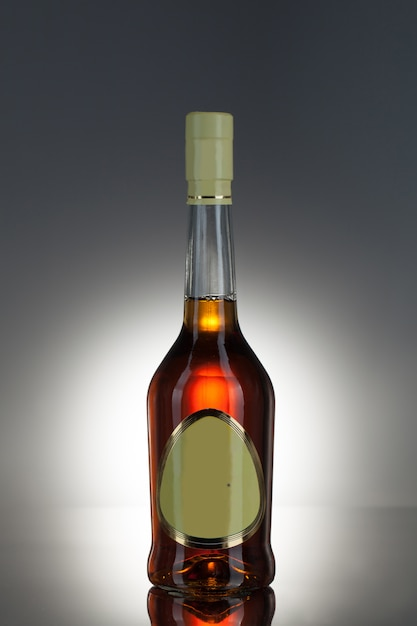alcohol: (146, 112, 282, 603)
